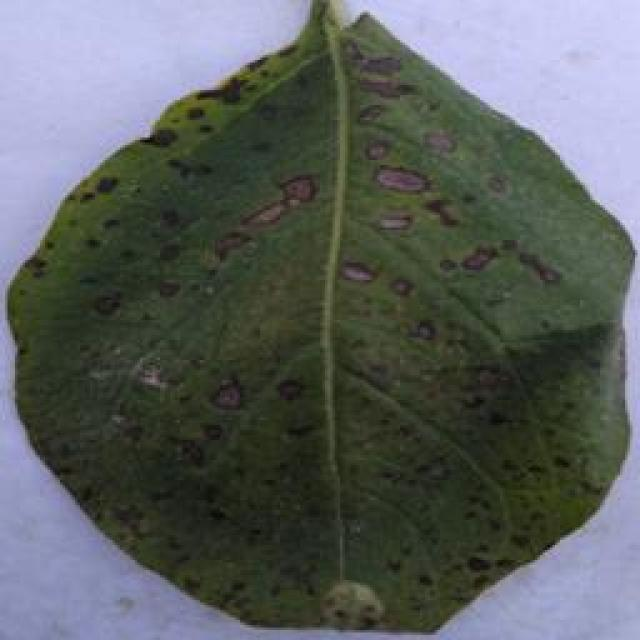Potato_Early_Blight: (6, 9, 638, 631)
